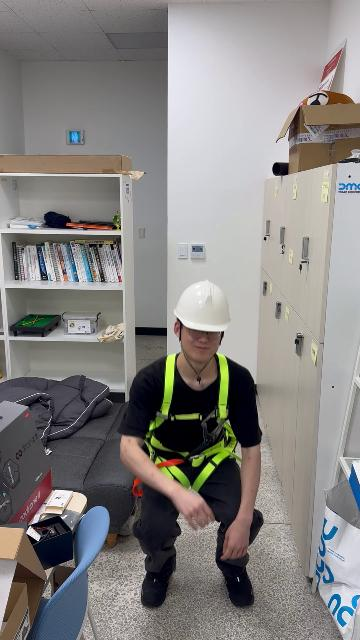helmet_worn: (172, 278, 229, 333)
shoe_worn: (140, 554, 176, 607), (220, 565, 253, 607)
vest_worn: (141, 357, 239, 492)
